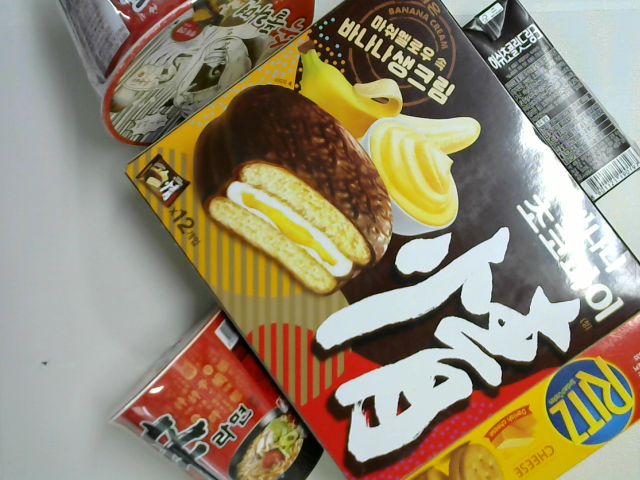Choco_Pie_Banana: (123, 1, 640, 480)
Hejangpul: (53, 1, 315, 148)
Hush_Choco_Drink: (460, 1, 640, 206)
Ritz_Sand_Cracker: (397, 309, 640, 479)
Sinramen_small: (106, 299, 328, 480)
